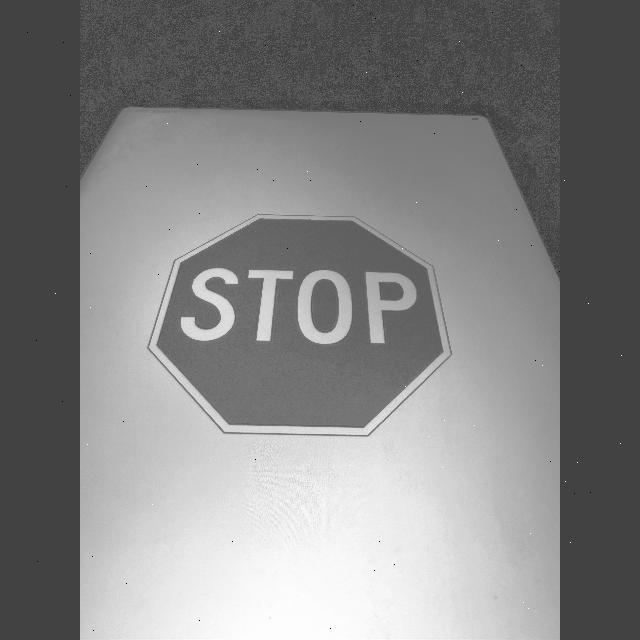STOP: (150, 217, 450, 436)
